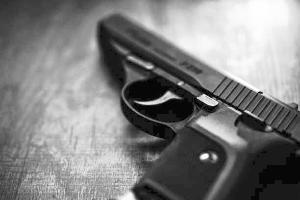handgun: (95, 9, 291, 194)
